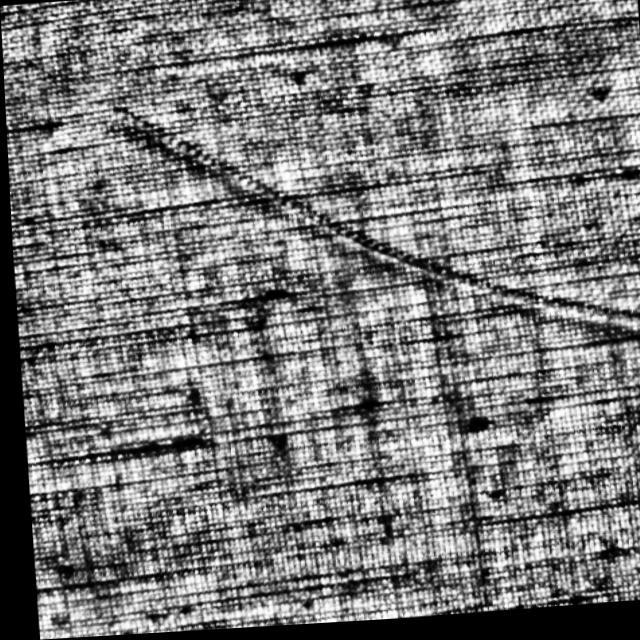Stitch: (116, 72, 640, 368)
